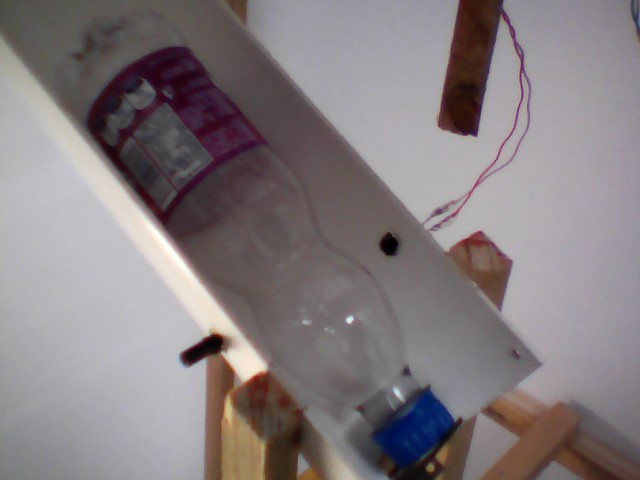plastico: (48, 6, 459, 464)
